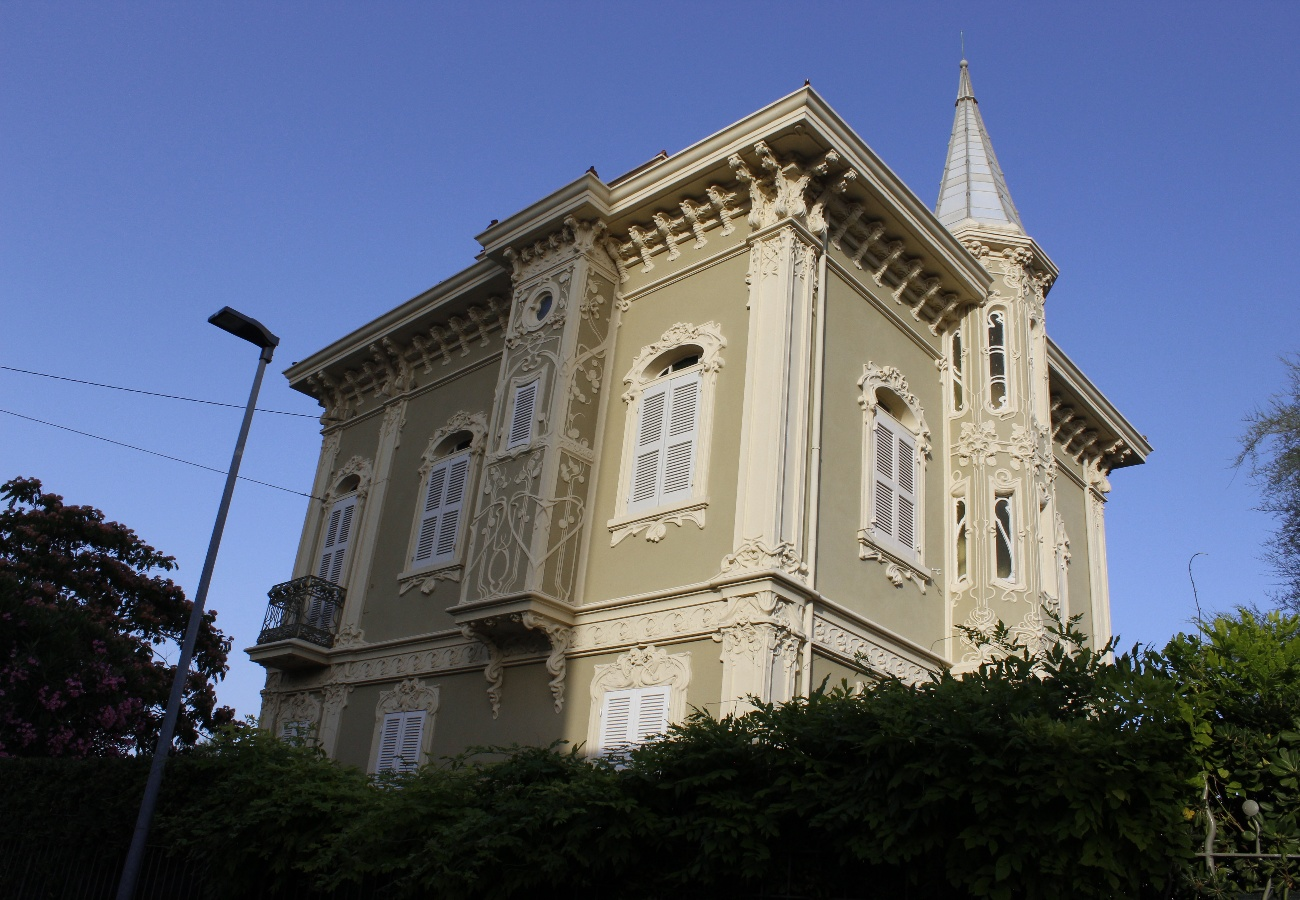Villino Ruggeri: (287, 85, 1153, 777)
